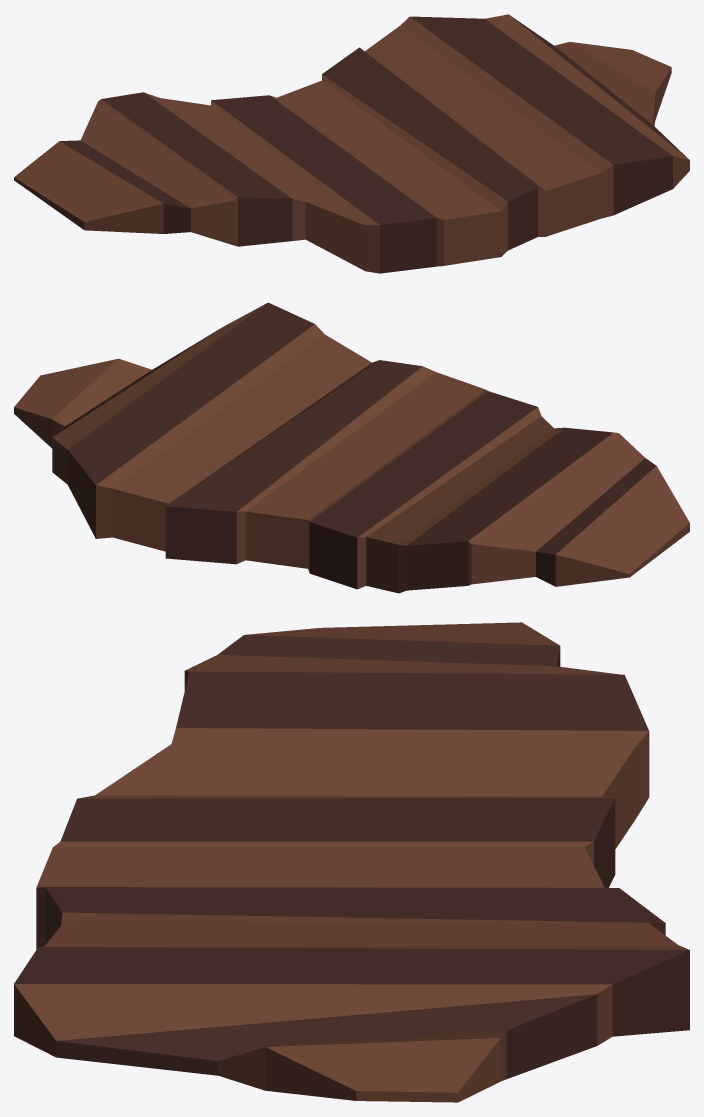
The model's file is Meat Cooked.fbx.
3 views of the same model, one above another, from view 1: azimuth 30°, elevation 25°; view 2: azimuth 150°, elevation 25°; view 3: azimuth 270°, elevation 25° (orthographic). The views are drawn at different scales.
Visible parts, largest first — view 1: Cube; view 2: Cube; view 3: Cube.
Part boxes in pixels (x1=…): Cube: x1=14, y1=14, x2=689, y2=273; Cube: x1=14, y1=302, x2=689, y2=593; Cube: x1=14, y1=622, x2=689, y2=1102.
Bounding box in the file's own units: 85.55 × 10.57 × 52.04.
